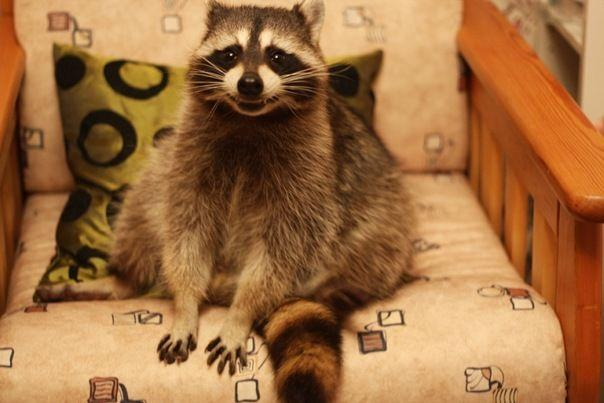raccoon: (110, 1, 422, 403)
